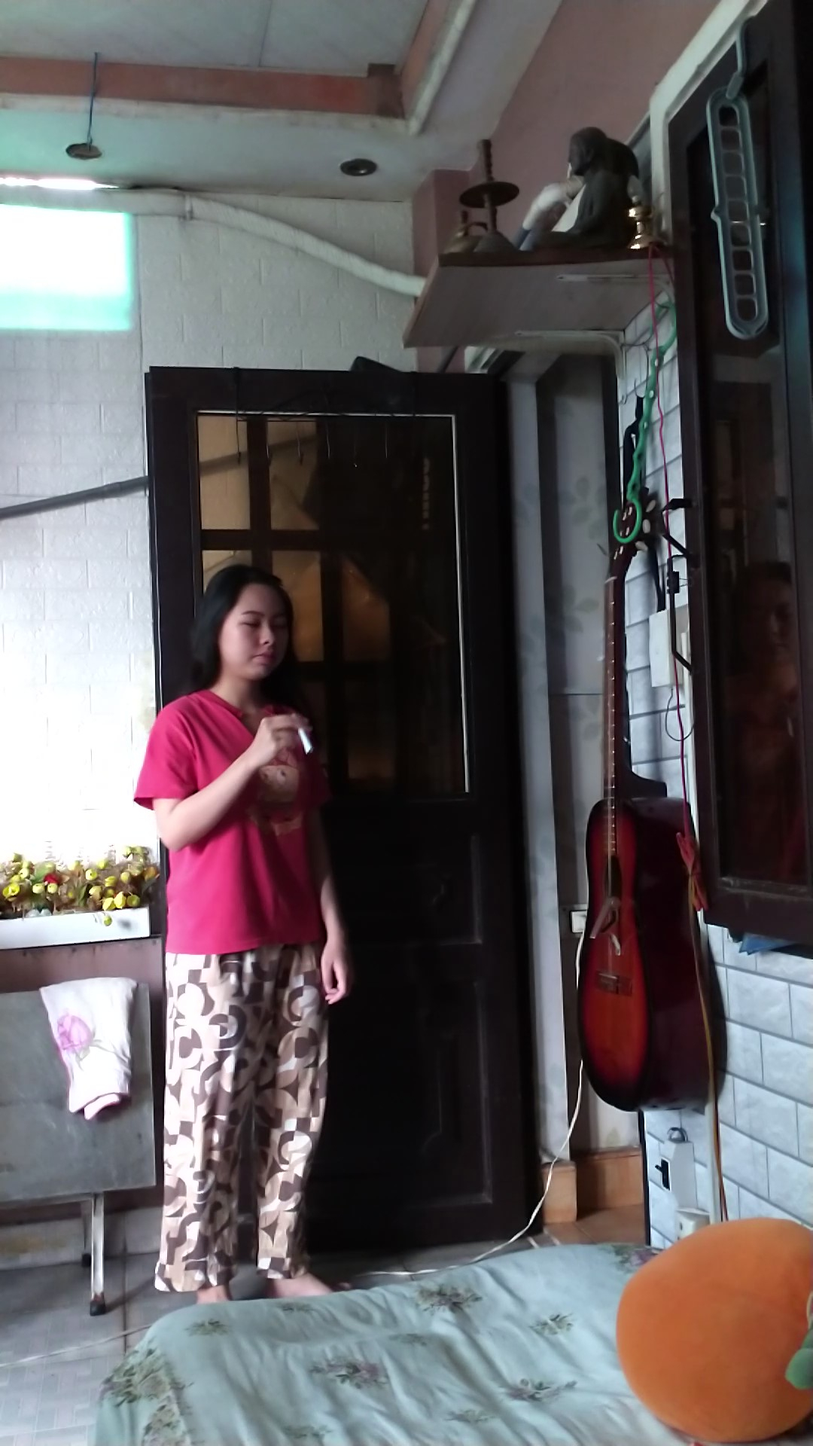cigarette: (294, 725, 318, 761)
person: (137, 533, 356, 1298)
